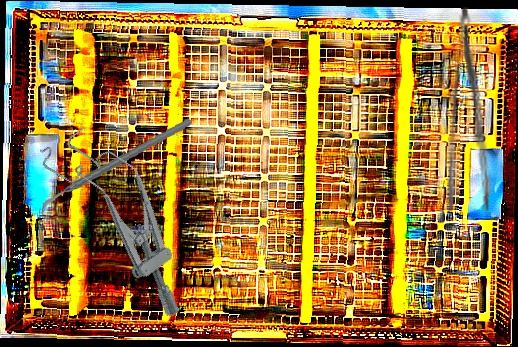Chopper: (30, 116, 200, 218)
Dressing Forceps: (443, 6, 504, 214)
Speculum: (33, 109, 218, 329)
